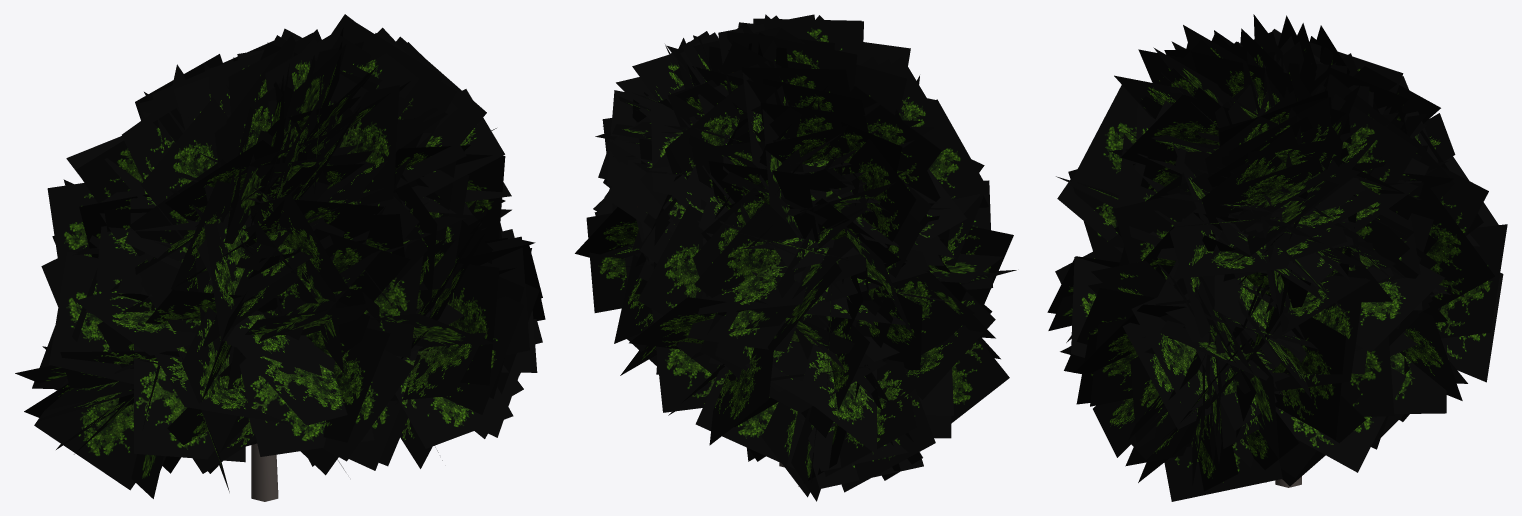
File: detailedTree.glb
The picture shows the model from 3 angles, left to right: view 1: azimuth 30°, elevation 25°; view 2: azimuth 150°, elevation 25°; view 3: azimuth 270°, elevation 25°; orthographic projection. The views are drawn at different scales.
Size of the model in its own units: 8.72 by 8.63 by 7.84.
Materials: 2 (1 with a texture image).
